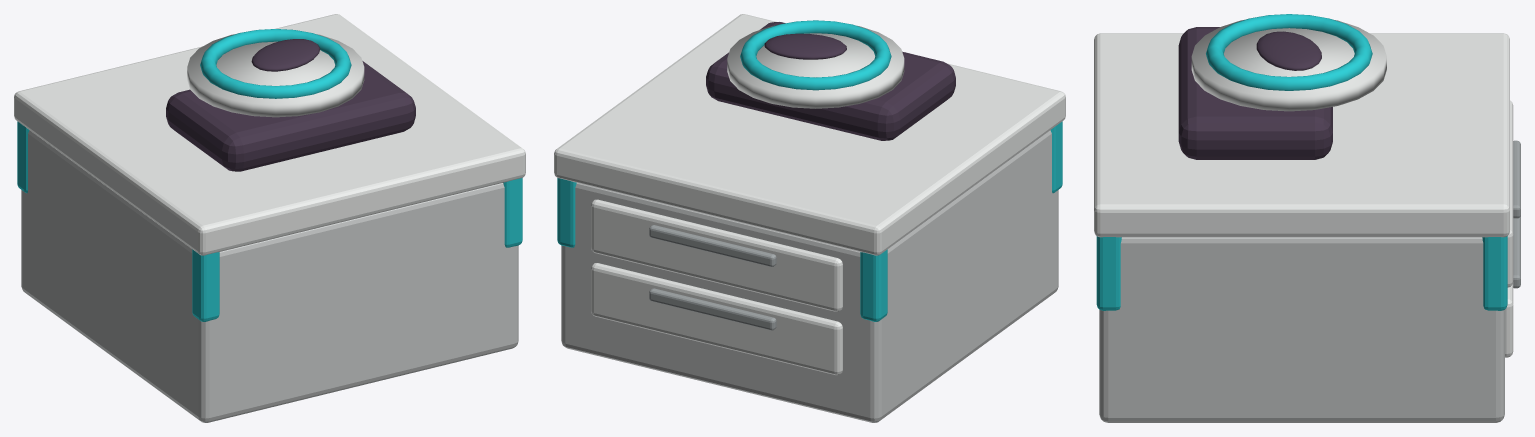
The model's file is DishReturn.fbx.
3 views of the same model, side by side, from view 1: azimuth 30°, elevation 25°; view 2: azimuth 150°, elevation 25°; view 3: azimuth 270°, elevation 25° (orthographic). The views are drawn at different scales.
Parts seen in each view (by area): view 1: MAT_Steel Geometry.012, MAT_SteelLight Geometry.011, MAT_DeepInset Geometry.004, MAT_Teal Geometry.010, MAT_Cream Geometry.003; view 2: MAT_SteelLight Geometry.011, MAT_Steel Geometry.012, MAT_DeepInset Geometry.004, MAT_Teal Geometry.010, MAT_Cream Geometry.003, MAT_SteelDark Geometry.011; view 3: MAT_Steel Geometry.012, MAT_SteelLight Geometry.011, MAT_DeepInset Geometry.004, MAT_Teal Geometry.010, MAT_Cream Geometry.003, MAT_SteelDark Geometry.011.
Part boxes in pixels (x1=…): MAT_Steel Geometry.012: x1=21, y1=130, x2=518, y2=422; MAT_SteelLight Geometry.011: x1=14, y1=14, x2=525, y2=255; MAT_DeepInset Geometry.004: x1=166, y1=39, x2=415, y2=171; MAT_Teal Geometry.010: x1=17, y1=29, x2=522, y2=321; MAT_Cream Geometry.003: x1=187, y1=34, x2=364, y2=117; MAT_SteelLight Geometry.011: x1=554, y1=14, x2=1065, y2=375; MAT_Steel Geometry.012: x1=561, y1=130, x2=1058, y2=422; MAT_DeepInset Geometry.004: x1=706, y1=22, x2=955, y2=140; MAT_Teal Geometry.010: x1=557, y1=20, x2=1062, y2=321; MAT_Cream Geometry.003: x1=727, y1=25, x2=904, y2=108; MAT_SteelDark Geometry.011: x1=649, y1=225, x2=776, y2=330; MAT_Steel Geometry.012: x1=1099, y1=237, x2=1504, y2=422; MAT_SteelLight Geometry.011: x1=1094, y1=33, x2=1513, y2=357; MAT_DeepInset Geometry.004: x1=1178, y1=27, x2=1332, y2=159; MAT_Teal Geometry.010: x1=1096, y1=14, x2=1507, y2=310; MAT_Cream Geometry.003: x1=1191, y1=19, x2=1386, y2=111; MAT_SteelDark Geometry.011: x1=1513, y1=140, x2=1520, y2=288.
Size of the model in its own units: 162 by 129 by 166.
